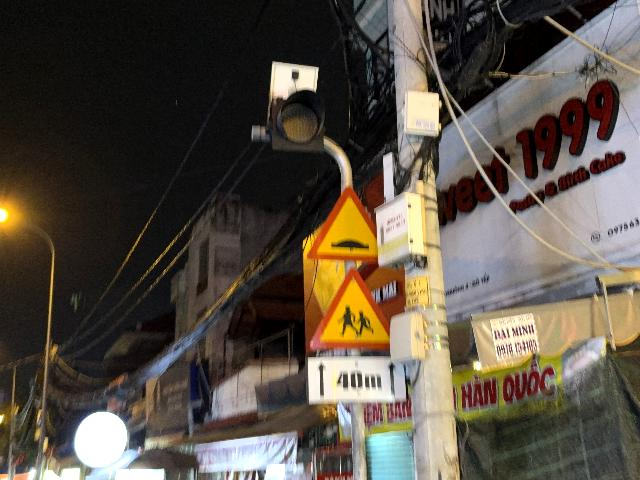duong-co-go-giam-toc: (306, 186, 378, 262)
tre-em-qua-duong: (311, 267, 390, 348)
